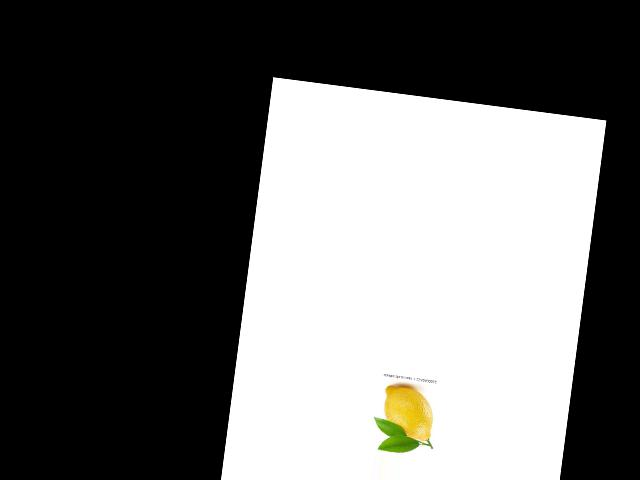lemon: (373, 382, 439, 450)
